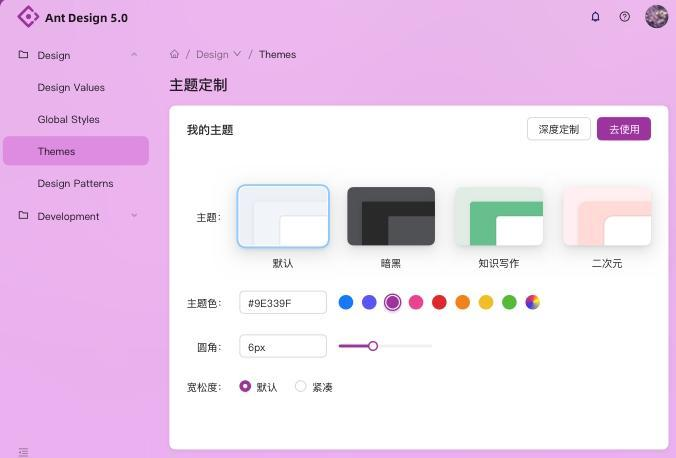button: (528, 118, 591, 140), (598, 117, 652, 142)
icon: (619, 8, 634, 26), (589, 8, 604, 25), (18, 50, 32, 62), (18, 209, 30, 223), (170, 49, 182, 63), (129, 210, 141, 223), (129, 50, 141, 62), (233, 49, 243, 60)
input: (242, 291, 328, 314), (240, 336, 328, 357)
label: (45, 12, 131, 26), (36, 177, 117, 191), (36, 82, 107, 94), (37, 114, 102, 126), (37, 144, 78, 159), (260, 49, 299, 62), (198, 49, 232, 61)
radio: (239, 380, 252, 394), (294, 381, 309, 393)
slider: (340, 341, 437, 353)
